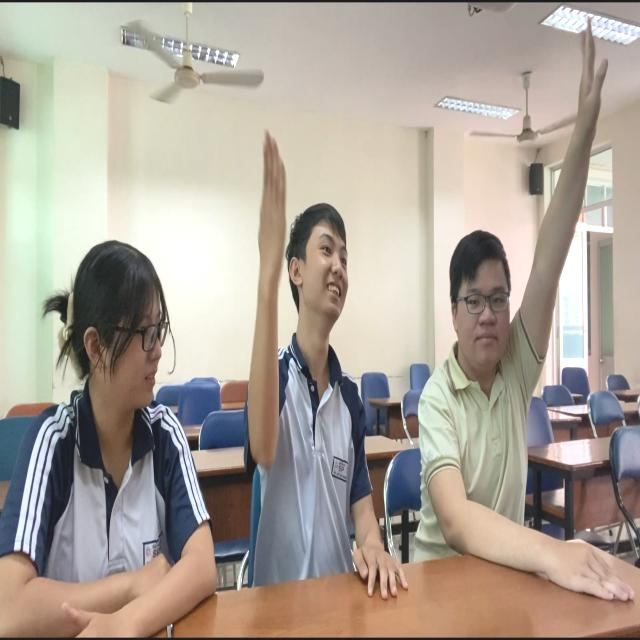raise_hand: (443, 16, 613, 586), (252, 117, 409, 605)
